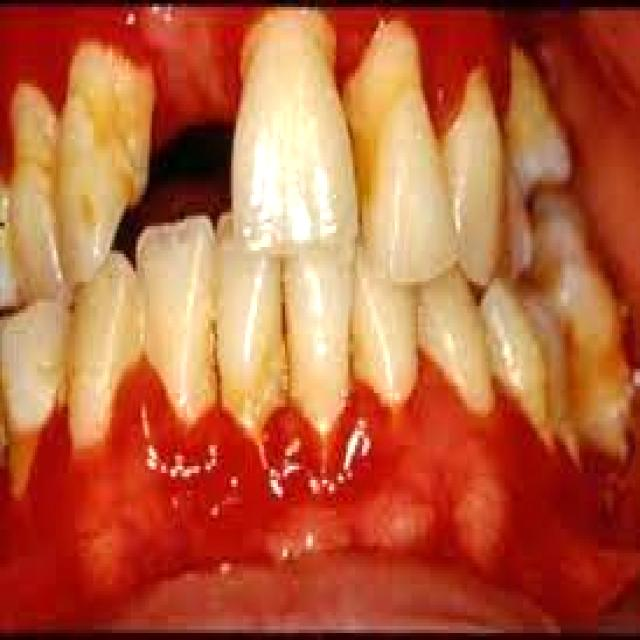gingivitis: (112, 358, 159, 442), (154, 397, 224, 449), (224, 414, 301, 459), (301, 414, 367, 438)
